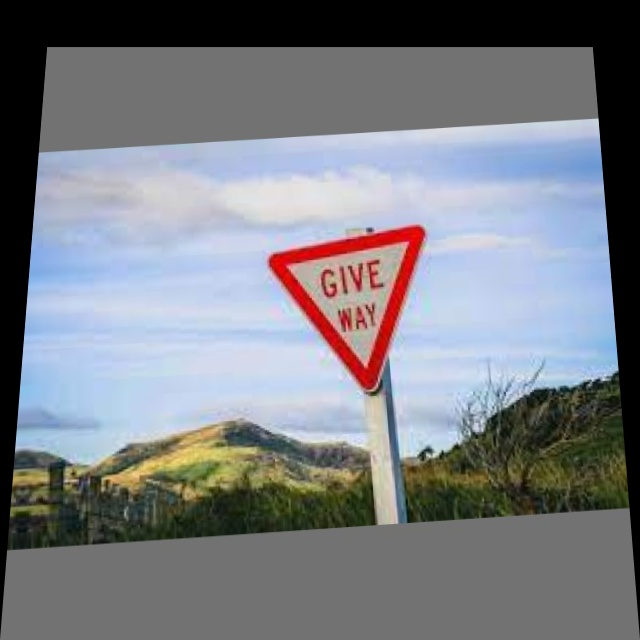Give_Way: (265, 228, 443, 393)
